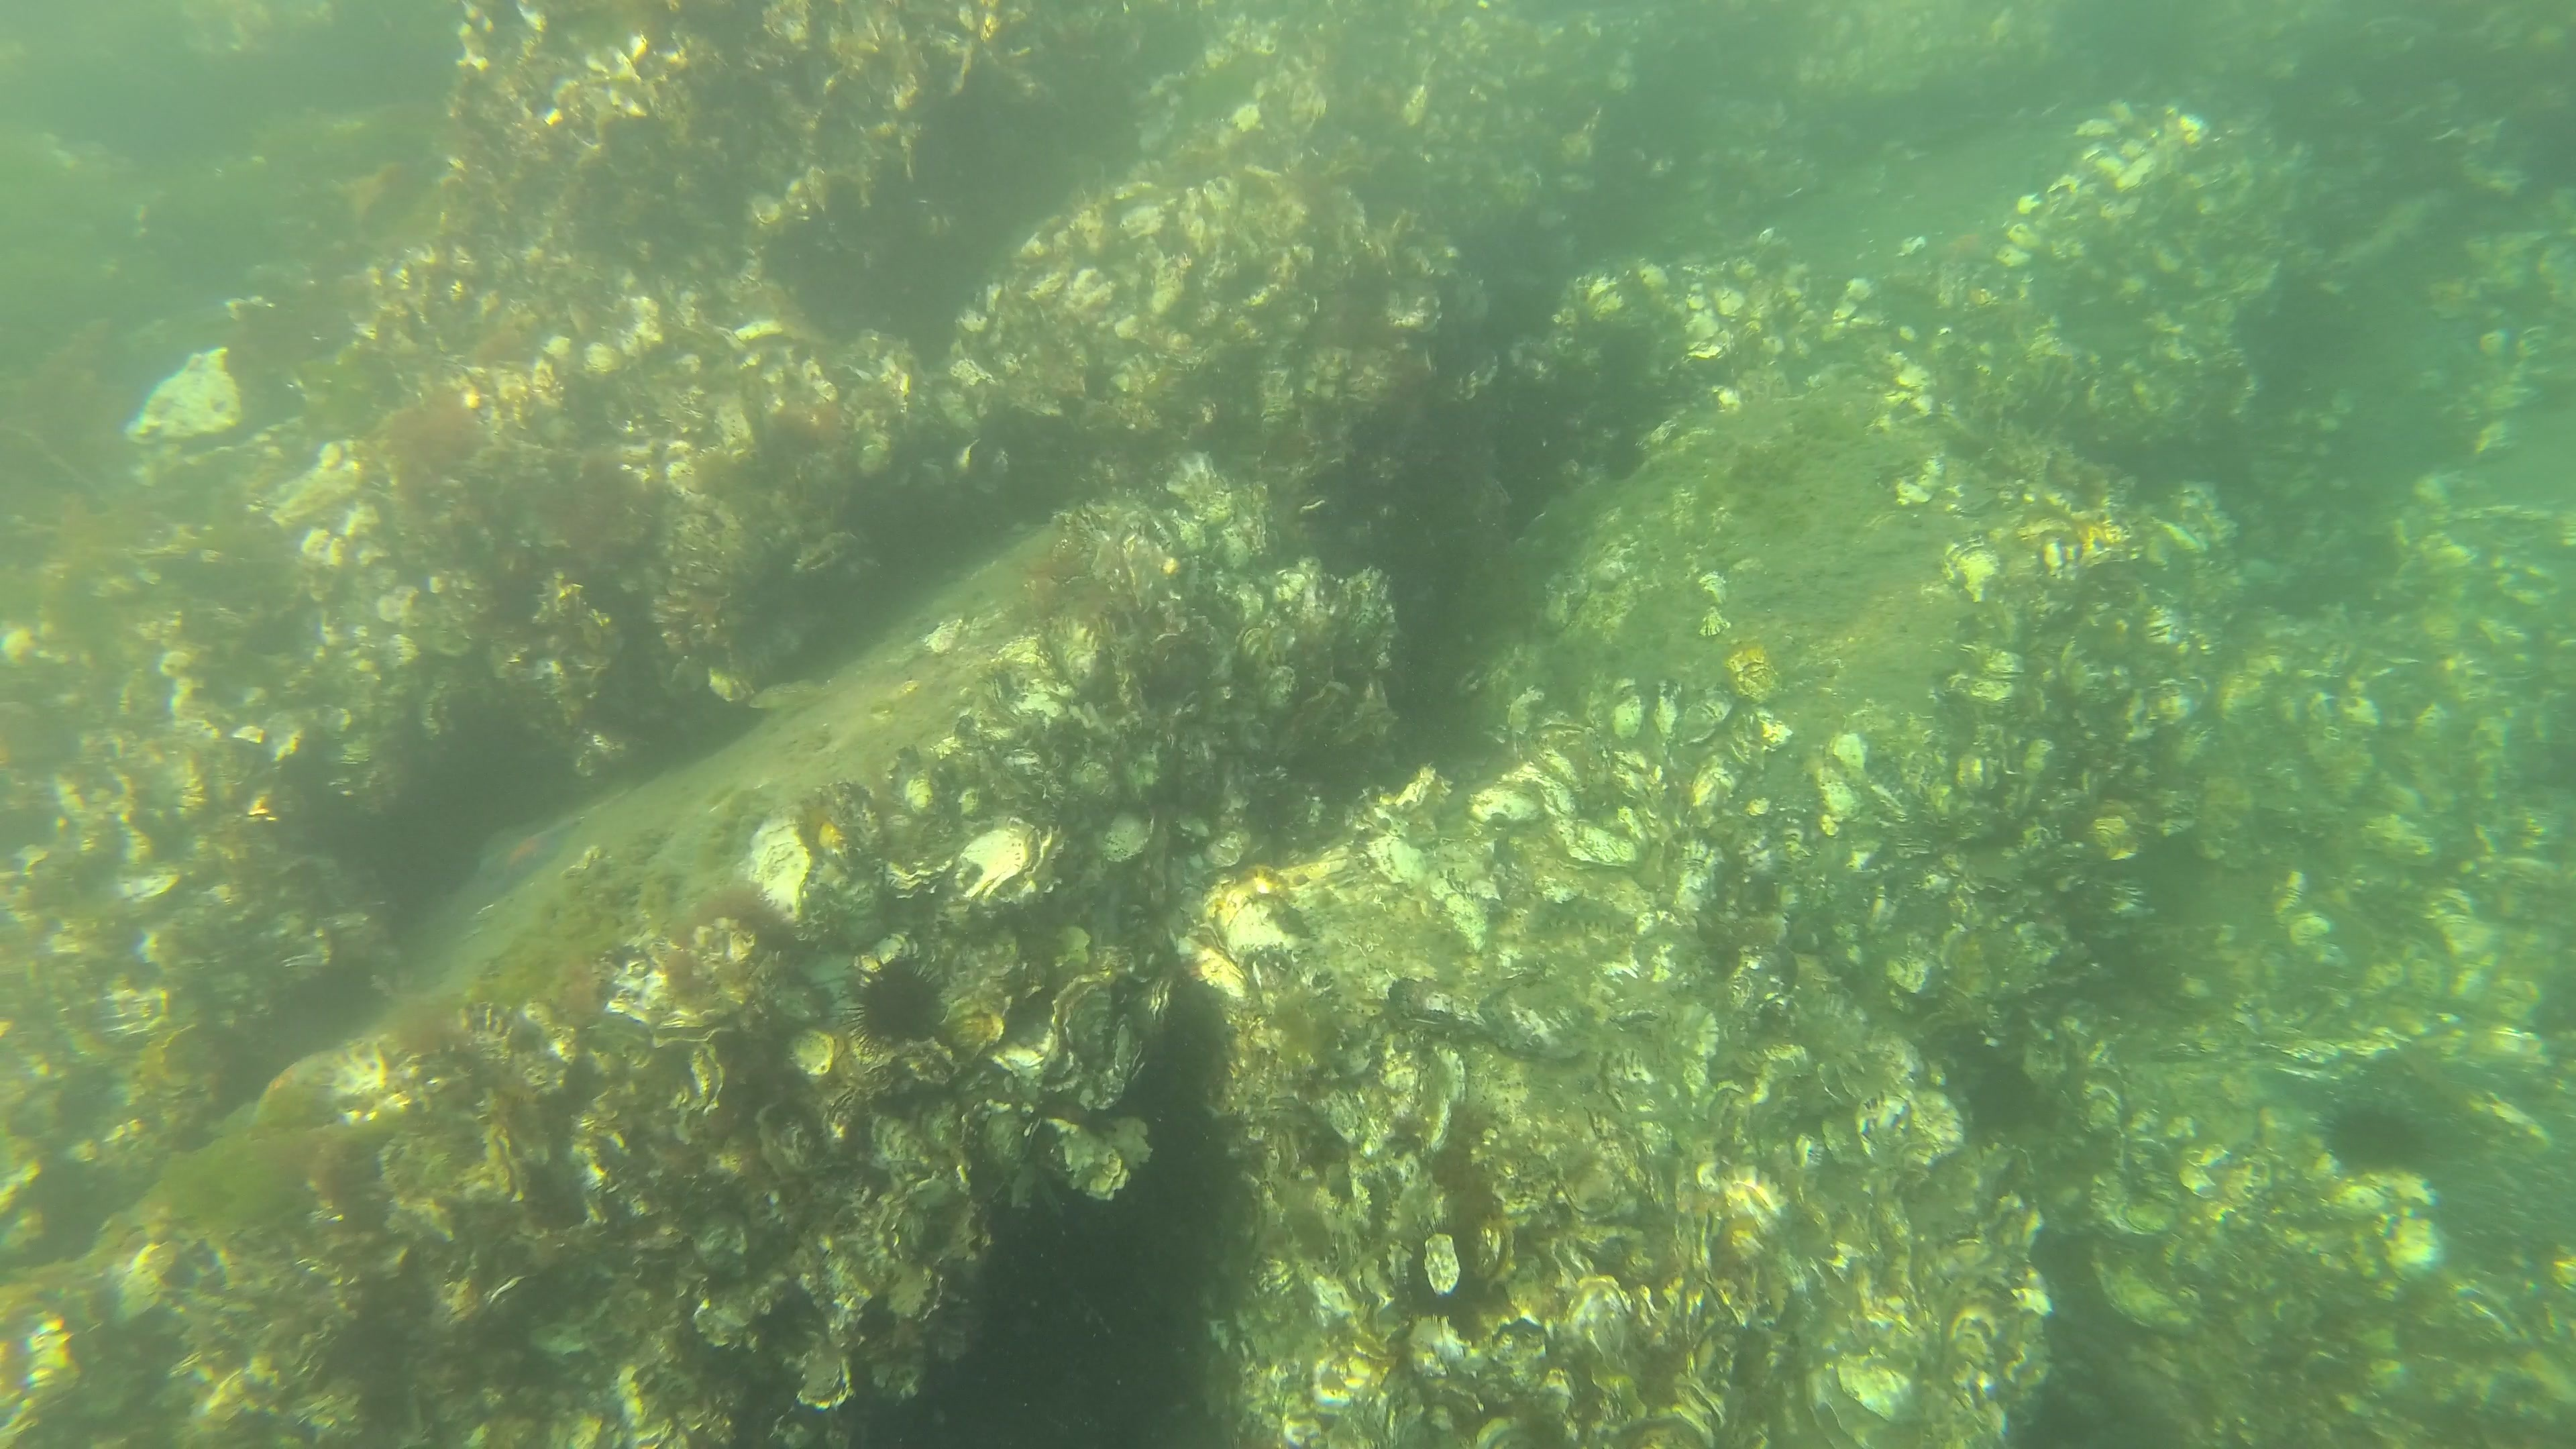echinus: (849, 957, 948, 1046), (2325, 1100, 2420, 1177), (1603, 333, 1645, 384), (1605, 439, 1645, 481)
starfish: (467, 824, 586, 908), (255, 1054, 338, 1134)
